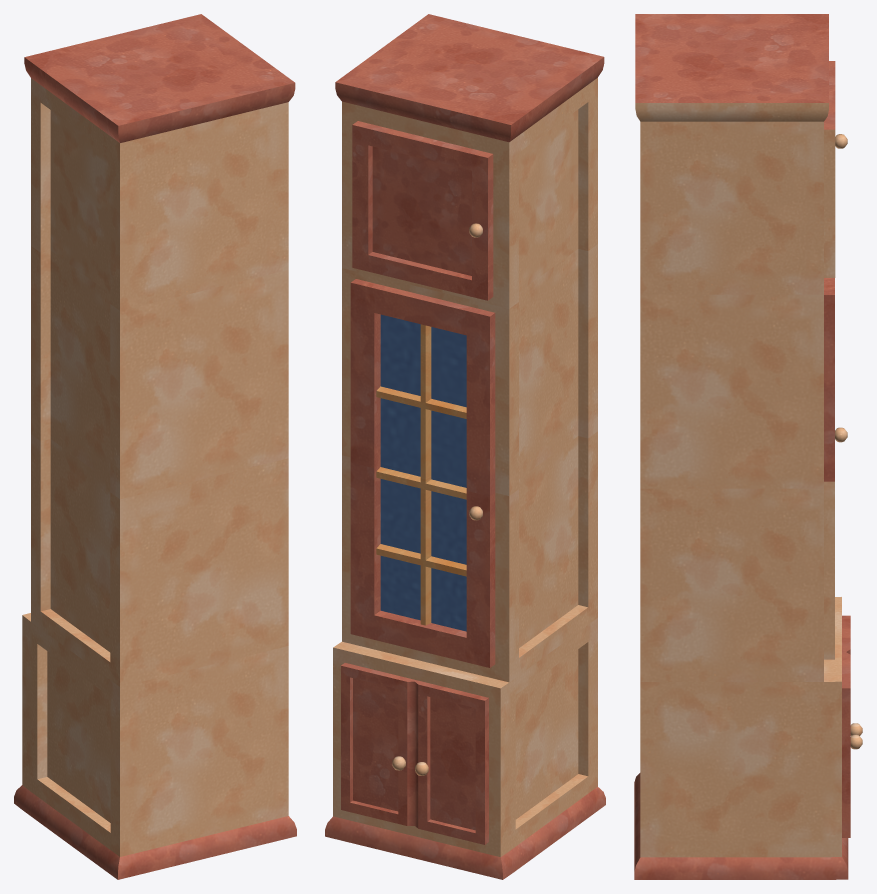
The model's file is SM_Dresser_High.fbx.
3 renders of one model, left to right at view 1: azimuth 30°, elevation 25°; view 2: azimuth 150°, elevation 25°; view 3: azimuth 270°, elevation 25°, orthographic. The views are drawn at different scales.
Visible parts, largest first — view 1: SM_Dresser_High; view 2: SM_Dresser_High; view 3: SM_Dresser_High.
Part boxes in pixels (x1=…): SM_Dresser_High: x1=14, y1=14, x2=296, y2=879; SM_Dresser_High: x1=325, y1=14, x2=605, y2=879; SM_Dresser_High: x1=634, y1=14, x2=862, y2=879.
Size of the model in its own units: 99.39 by 400 by 107.
